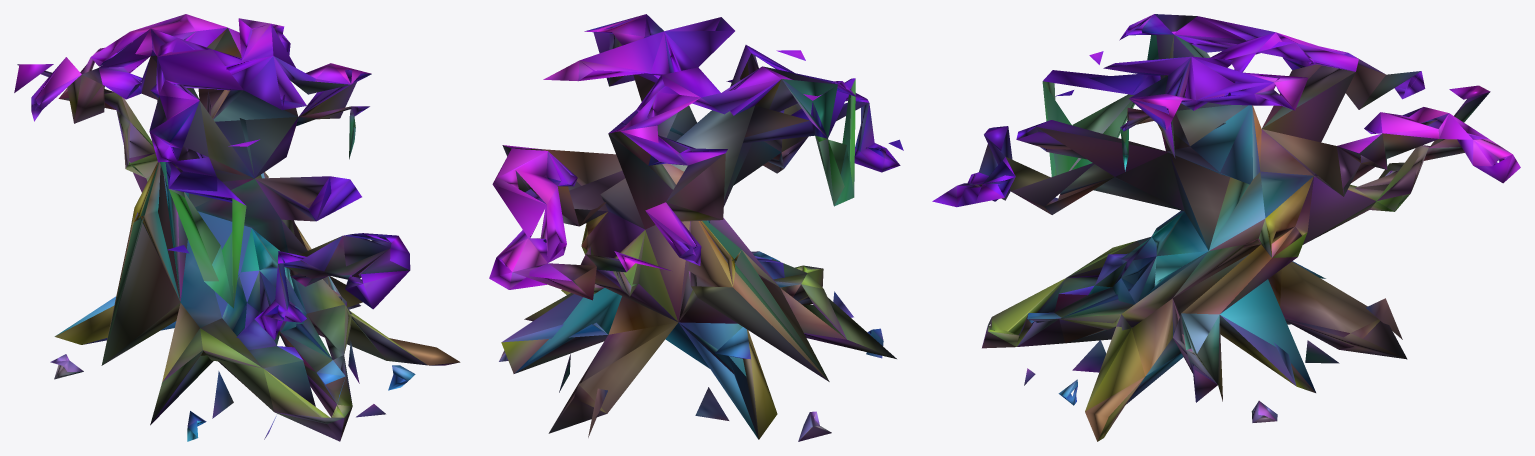
The model's file is arvore-lod.glb.
3 views of the same model, side by side, from view 1: azimuth 30°, elevation 25°; view 2: azimuth 150°, elevation 25°; view 3: azimuth 270°, elevation 25° (orthographic). The views are drawn at different scales.
Visible parts, largest first — view 1: arvore; view 2: arvore; view 3: arvore.
Boxes of the visible parts, x1=… form: arvore: x1=14, y1=14, x2=460, y2=441; arvore: x1=489, y1=14, x2=903, y2=441; arvore: x1=932, y1=14, x2=1520, y2=441.
Bounding box in the file's own units: 1.09 × 0.9857 × 1.66.
Materials: 1 (1 with a texture image).
